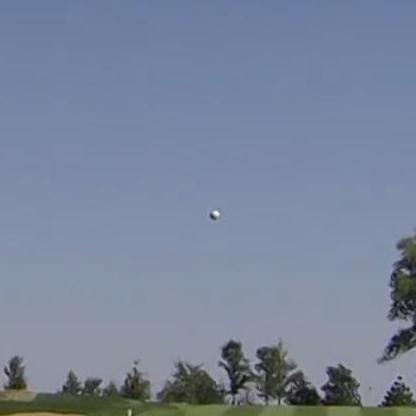golfball: (208, 207, 219, 218)
